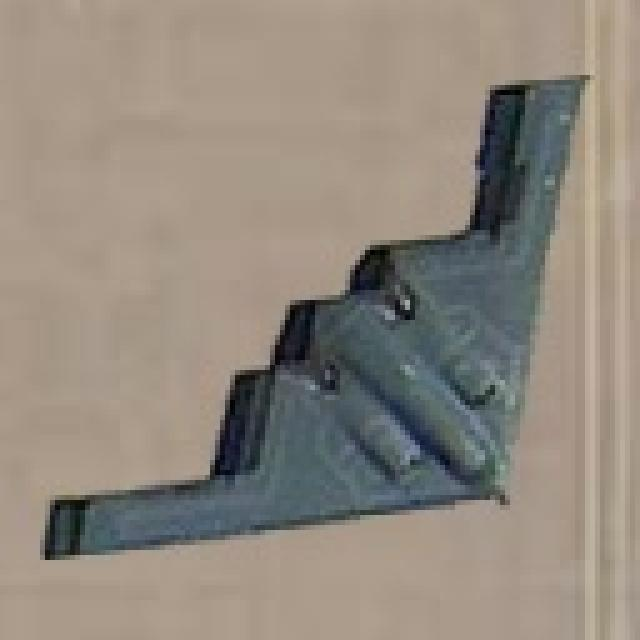B-2_TopDown: (35, 65, 590, 560)
